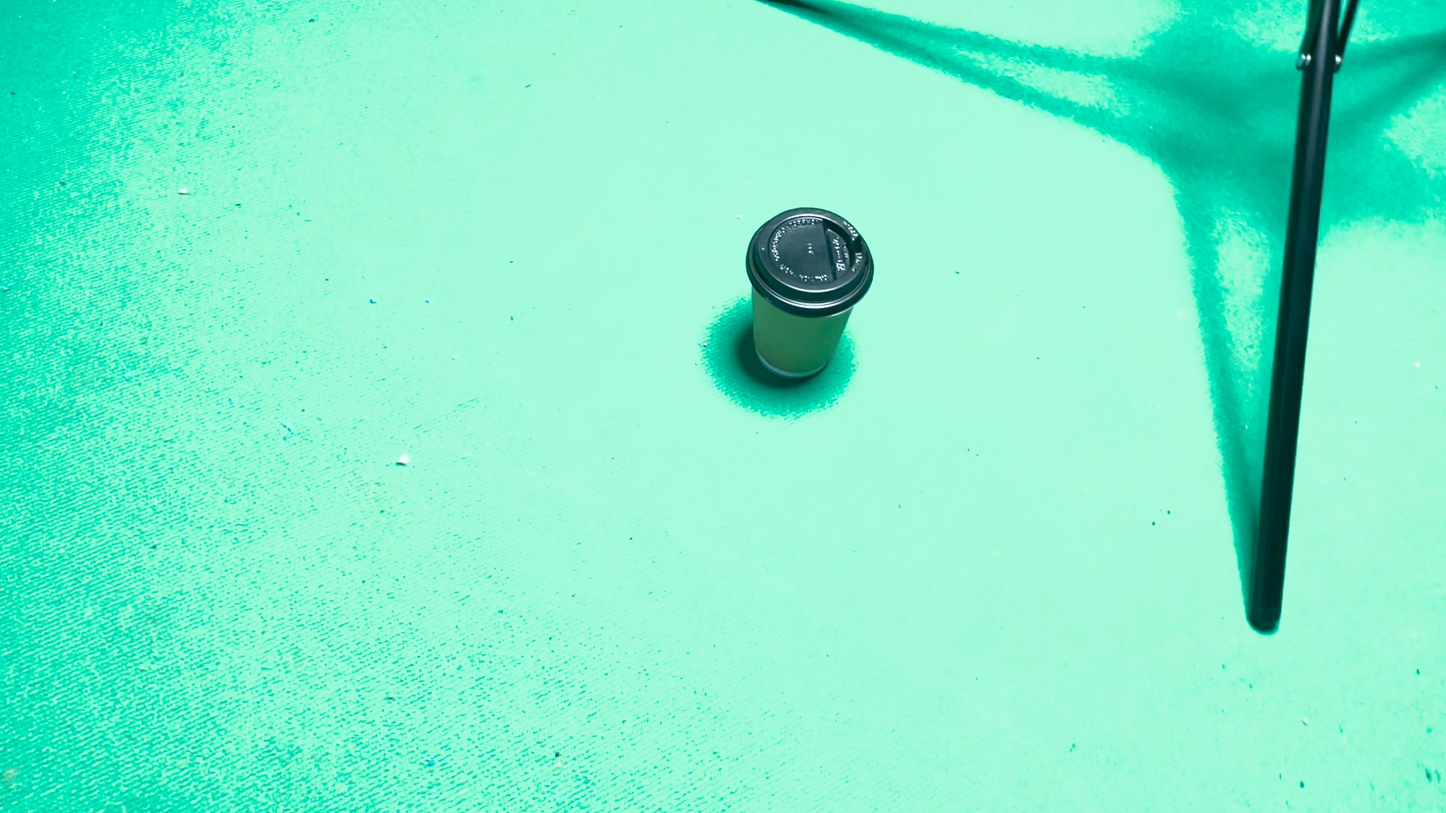cup: (737, 451, 832, 577)
